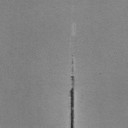slag inclusion: (70, 56, 75, 128)
